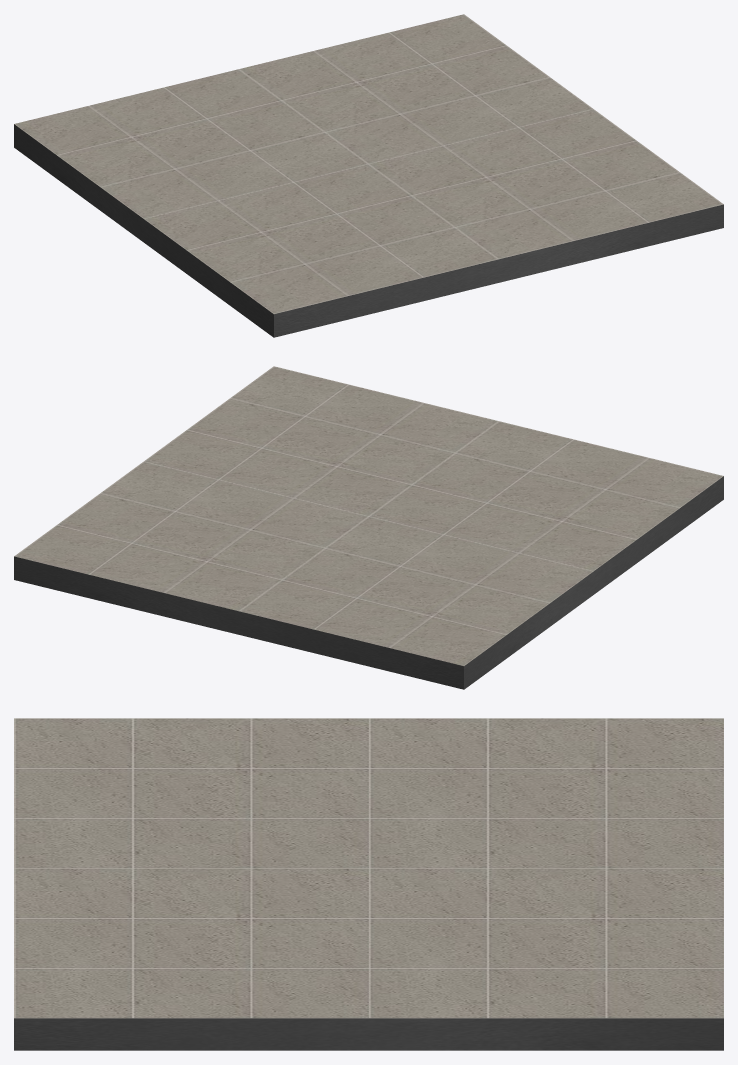
Rendered from floor_1C.FBX.
3 views of the same model, one above another, from view 1: azimuth 30°, elevation 25°; view 2: azimuth 150°, elevation 25°; view 3: azimuth 270°, elevation 25° (orthographic). The views are drawn at different scales.
Parts seen in each view (by area): view 1: floor_1C; view 2: floor_1C; view 3: floor_1C.
Boxes of the visible parts, x1,y1,x2,y2 form: floor_1C: [14, 14, 723, 337]; floor_1C: [14, 366, 723, 689]; floor_1C: [14, 718, 723, 1050].
Bounding box in the file's own units: 40 × 2 × 40.
